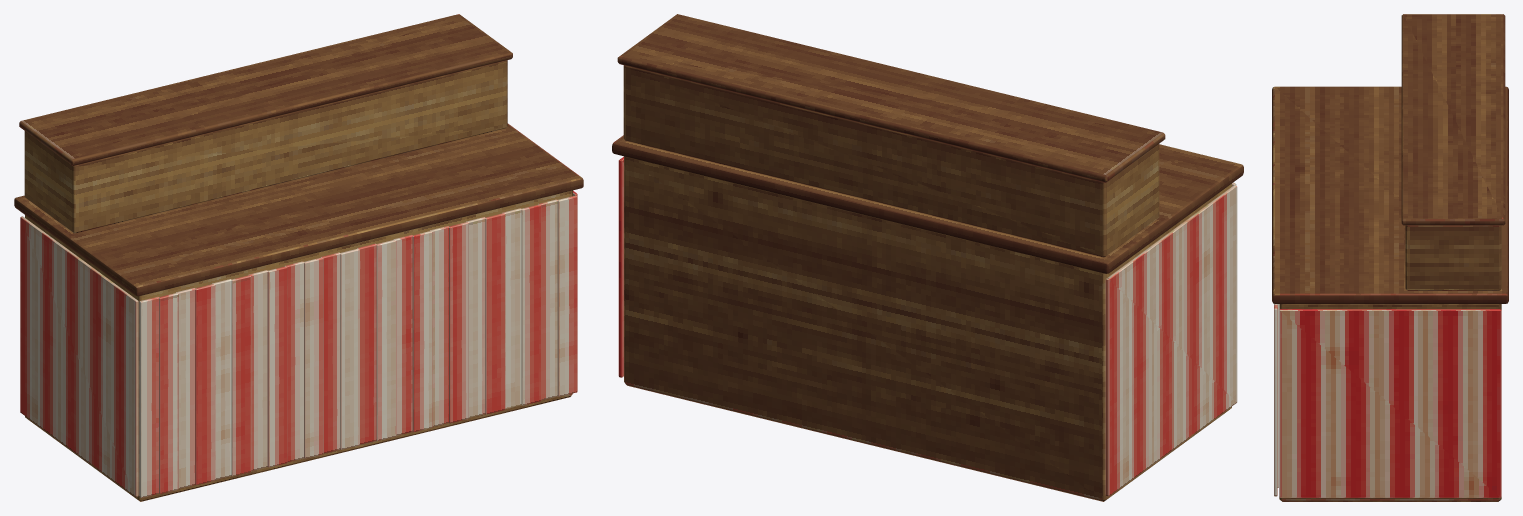
File: mk_island.glb
3 renders of one model, left to right at view 1: azimuth 30°, elevation 25°; view 2: azimuth 150°, elevation 25°; view 3: azimuth 270°, elevation 25°, orthographic. The views are drawn at different scales.
Parts seen in each view (by area): view 1: mesh; view 2: mesh; view 3: mesh.
Boxes of the visible parts, x1,y1,x2,y2 form: mesh: [14, 14, 583, 501]; mesh: [612, 14, 1243, 501]; mesh: [1272, 14, 1508, 501].
Size of the model in its own units: 1.34 by 0.85 by 0.64.
1 material, 1 textured.
